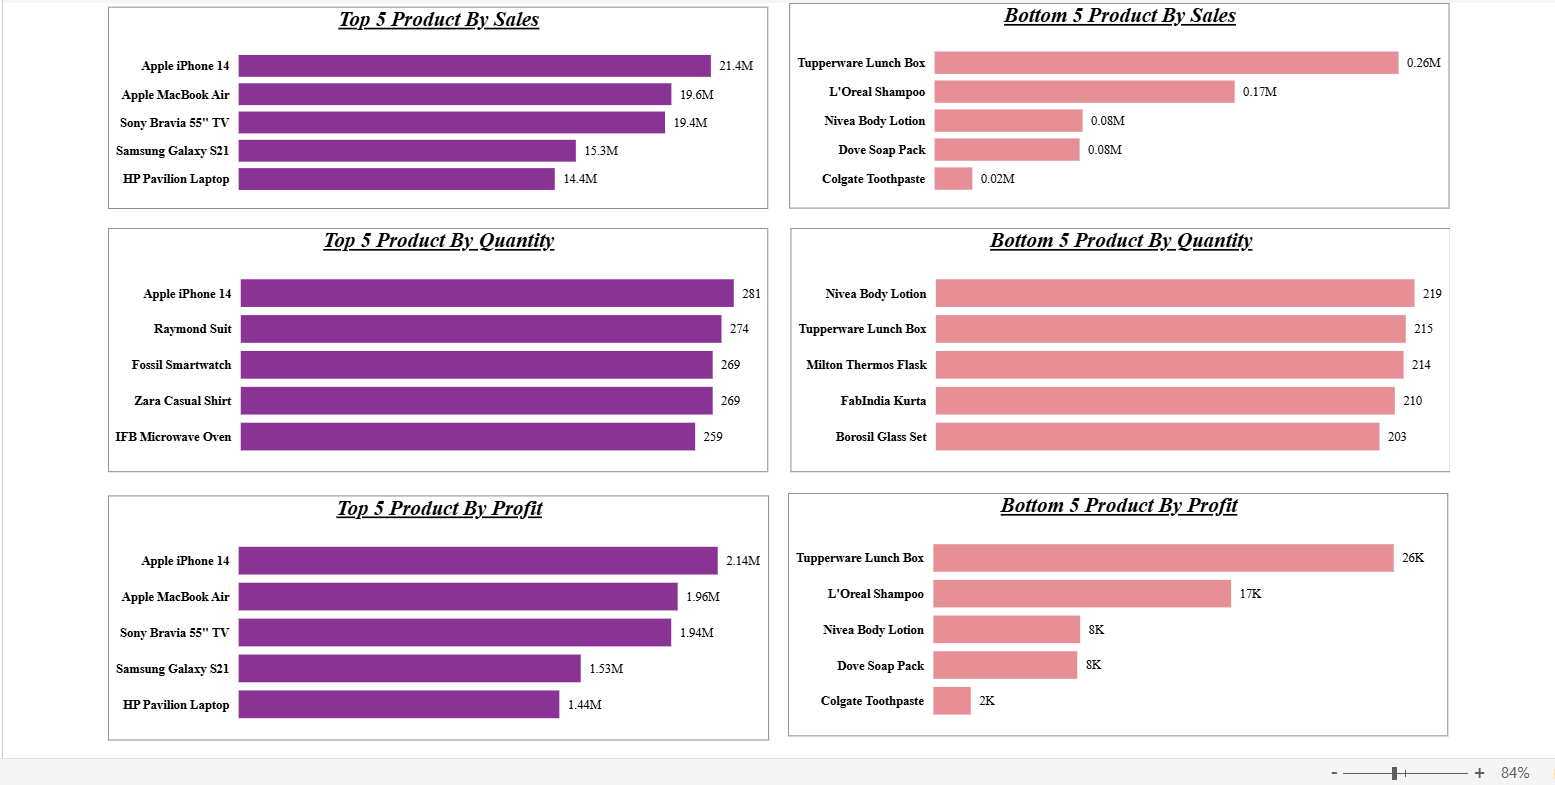

What the dashboard file says about the page in this screenshot:
{"tool":"powerbi","page":{"name":"Top/Bottom 5 Analysis","canvas":[1280,720],"ordinal":1},"visuals":[{"type":"barChart","title":"Top 5 Product By Sales","fields":{"Category":["Dim Product.Product Name"],"Y":["Sum(Fact Table.Net Sales)"]},"box":[0,3.7,629.5,192.6],"z":0},{"type":"barChart","title":"Bottom 5 Product By Sales","fields":{"Category":["Dim Product.Product Name"],"Y":["Sum(Fact Table.Net Sales)"]},"box":[649.1,0,629.5,196.3],"z":1000},{"type":"barChart","title":"Top 5 Product By Quantity","fields":{"Category":["Dim Product.Product Name"],"Y":["Sum(Fact Table.Units Sold)"]},"box":[0,214.7,629.5,233.1],"z":2000},{"type":"barChart","title":"Bottom 5 Product By Quantity","fields":{"Category":["Dim Product.Product Name"],"Y":["Sum(Fact Table.Units Sold)"]},"box":[650.3,214.7,629.5,233.1],"z":3000},{"type":"barChart","title":"Top 5 Product By Profit","fields":{"Category":["Dim Product.Product Name"],"Y":["Sum(Fact Table.Profit)"]},"box":[0,469.2,630.2,233.4],"z":4000},{"type":"barChart","title":"Bottom 5 Product By Profit","fields":{"Category":["Dim Product.Product Name"],"Y":["Sum(Fact Table.Profit)"]},"box":[648.9,467.6,629.8,232.2],"z":5000}]}

Visuals, with their boxes on the page's 1280x720 design canvas (x1, y1, x2, y2). These are canvas units, not pixel positions in the 1555x785 screenshot, which may show the page scaled, cropped or inside an application window:
"Top 5 Product By Sales" barChart: BBox(0, 4, 630, 196)
"Bottom 5 Product By Sales" barChart: BBox(649, 0, 1279, 196)
"Top 5 Product By Quantity" barChart: BBox(0, 215, 630, 448)
"Bottom 5 Product By Quantity" barChart: BBox(650, 215, 1280, 448)
"Top 5 Product By Profit" barChart: BBox(0, 469, 630, 703)
"Bottom 5 Product By Profit" barChart: BBox(649, 468, 1279, 700)
